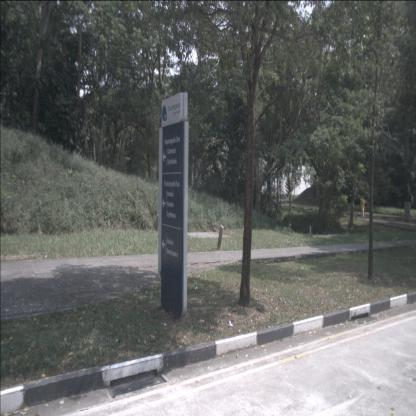human-pedestrian-adult: (360, 195, 365, 219)
